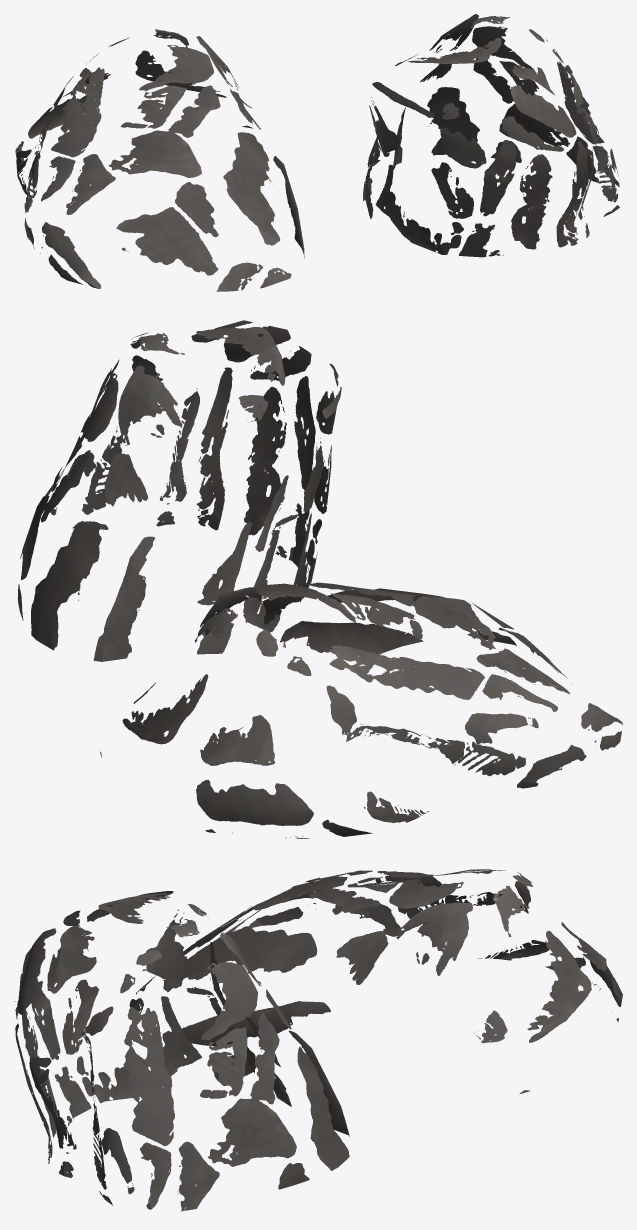
The model's file is SM_ENV_LKNVLD_RockMiddle_H.FBX.
3 views of the same model, one above another, from view 1: azimuth 30°, elevation 25°; view 2: azimuth 150°, elevation 25°; view 3: azimuth 270°, elevation 25° (orthographic). The views are drawn at different scales.
Visible parts, largest first — view 1: SM_ENV_LKNVLD_RockMiddle_H; view 2: SM_ENV_LKNVLD_RockMiddle_H; view 3: SM_ENV_LKNVLD_RockMiddle_H.
Boxes of the visible parts, box(x1,y1,x2,y2) form: SM_ENV_LKNVLD_RockMiddle_H: box(15, 14, 619, 291); SM_ENV_LKNVLD_RockMiddle_H: box(17, 320, 622, 838); SM_ENV_LKNVLD_RockMiddle_H: box(14, 869, 622, 1211).
Bounding box in the file's own units: 556 × 200 × 488.
